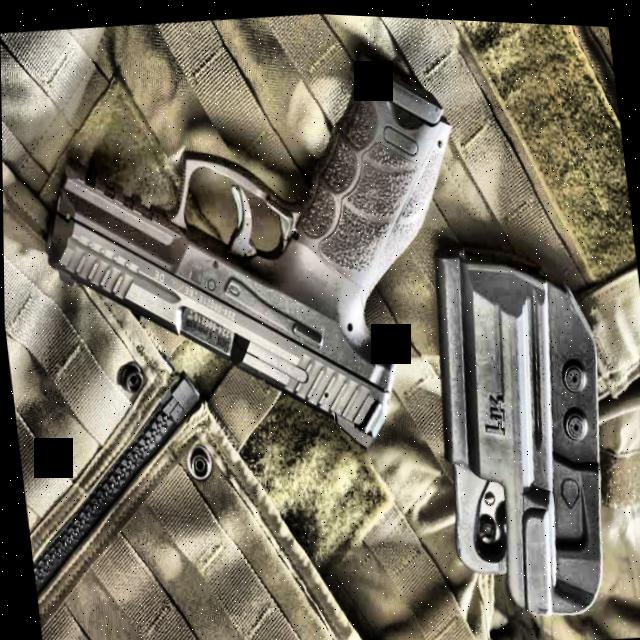HKVP9: (20, 8, 491, 480)
